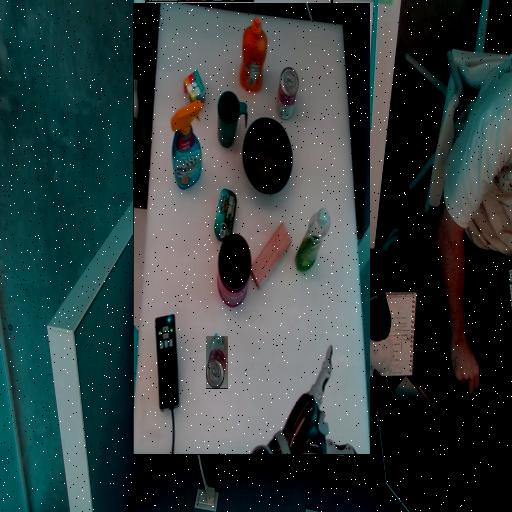bowl: (212, 275, 261, 323)
cleanser: (174, 186, 209, 248)
coffee_can: (253, 149, 287, 222)
jaco: (145, 2, 253, 109)
meat_can: (267, 216, 289, 268)
mug: (257, 309, 286, 364)
mustard_bottle: (238, 389, 263, 413)
rubik: (299, 359, 320, 380)
soup_can: (206, 336, 227, 387)
windex: (302, 268, 333, 355)
wooden_block: (213, 166, 253, 232)
workspace: (134, 3, 370, 454)
